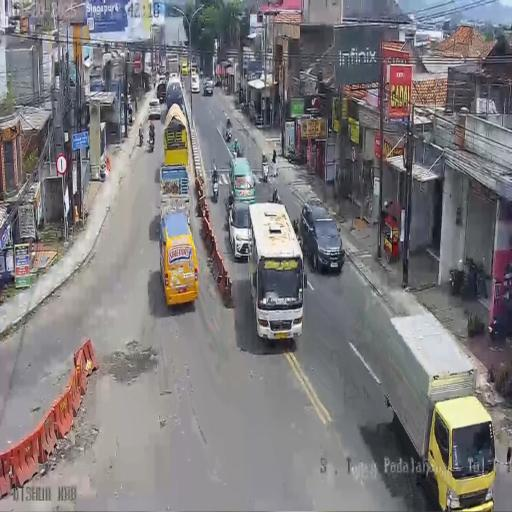car: (246, 203, 304, 339), (160, 212, 200, 309), (299, 202, 344, 274), (228, 201, 252, 259), (228, 156, 254, 206), (148, 97, 161, 120), (156, 80, 167, 102), (202, 78, 214, 96), (191, 72, 200, 93), (182, 61, 188, 75), (199, 69, 203, 80)
motorcycle: (286, 147, 304, 165), (147, 130, 155, 152), (262, 160, 269, 183), (225, 126, 232, 142), (138, 130, 144, 146), (165, 69, 169, 81)
truck: (378, 312, 494, 506), (166, 54, 180, 77), (192, 63, 198, 75)
